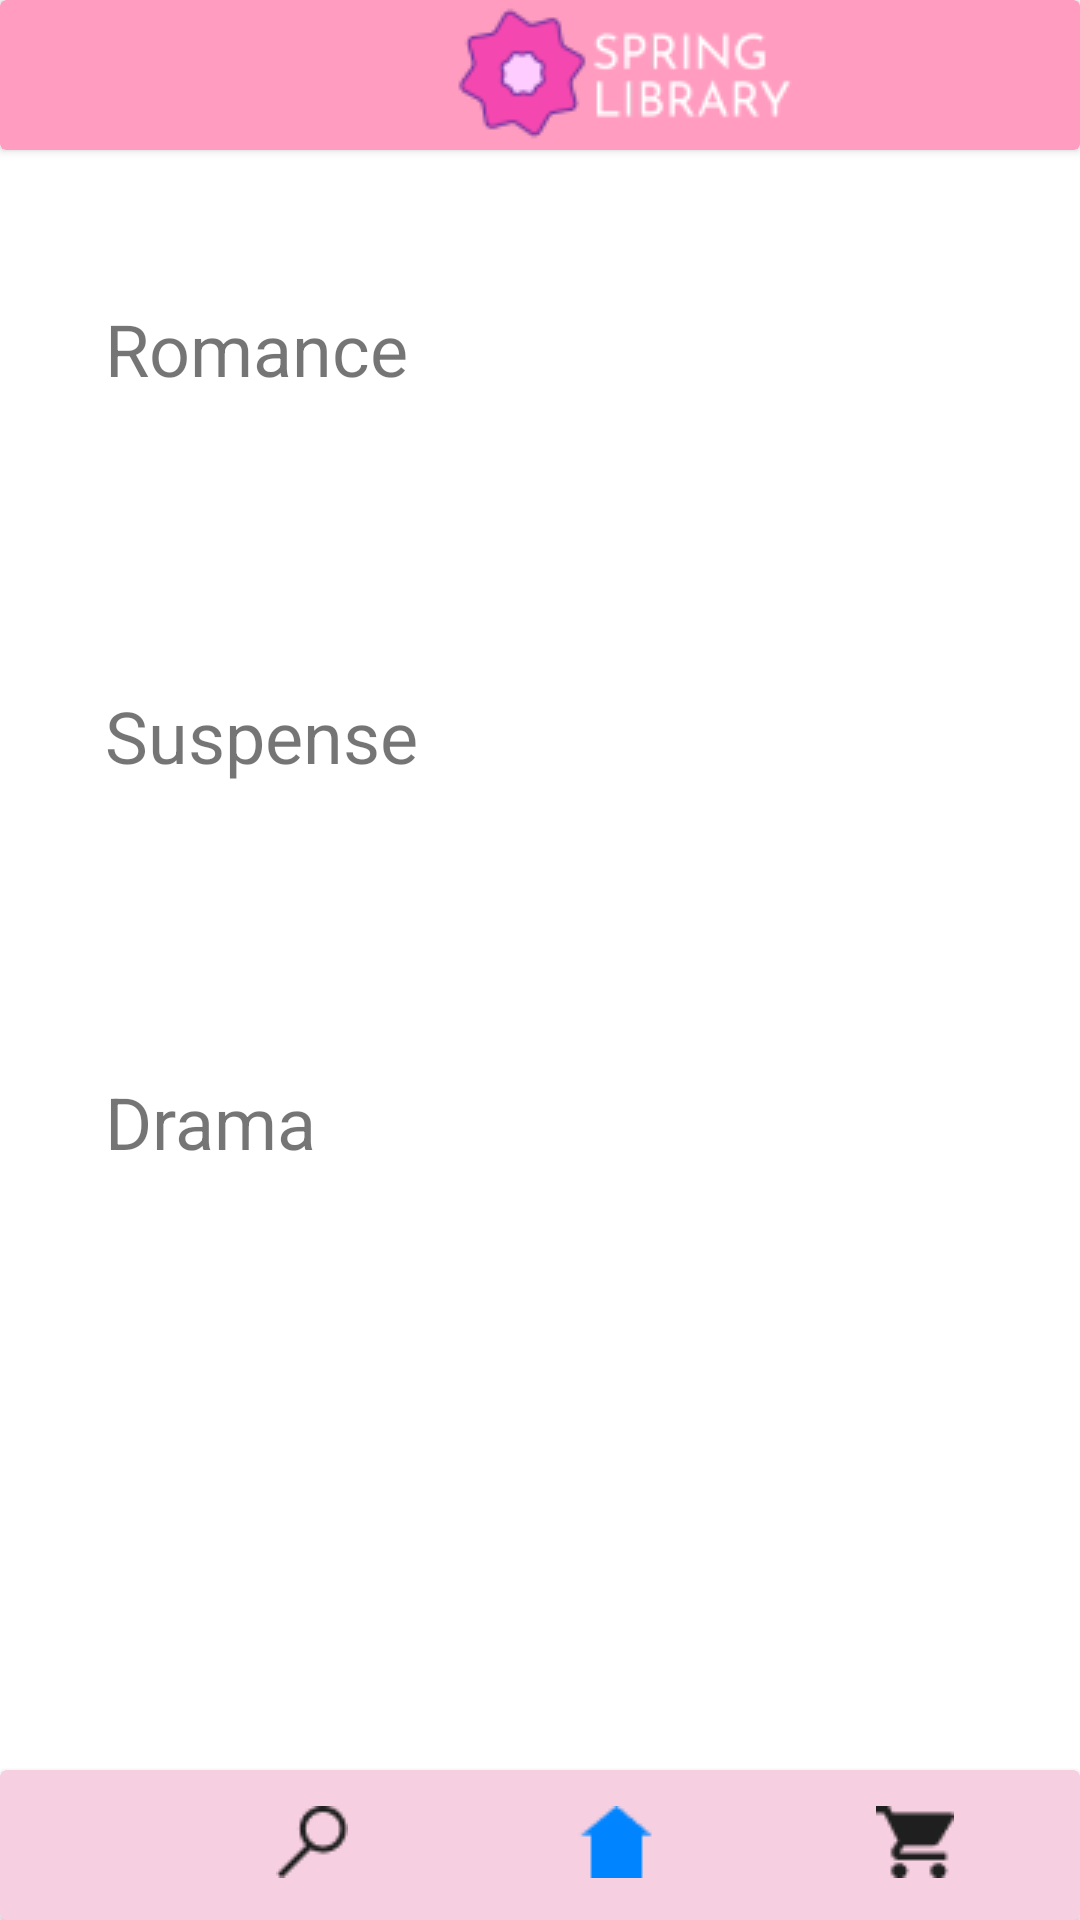

Where to tap for icons on this 1080px×1920px app screen, as (x,y):
Carrinho: (915,1842)
Home: (616,1842)
Pesquisar: (312,1842)
